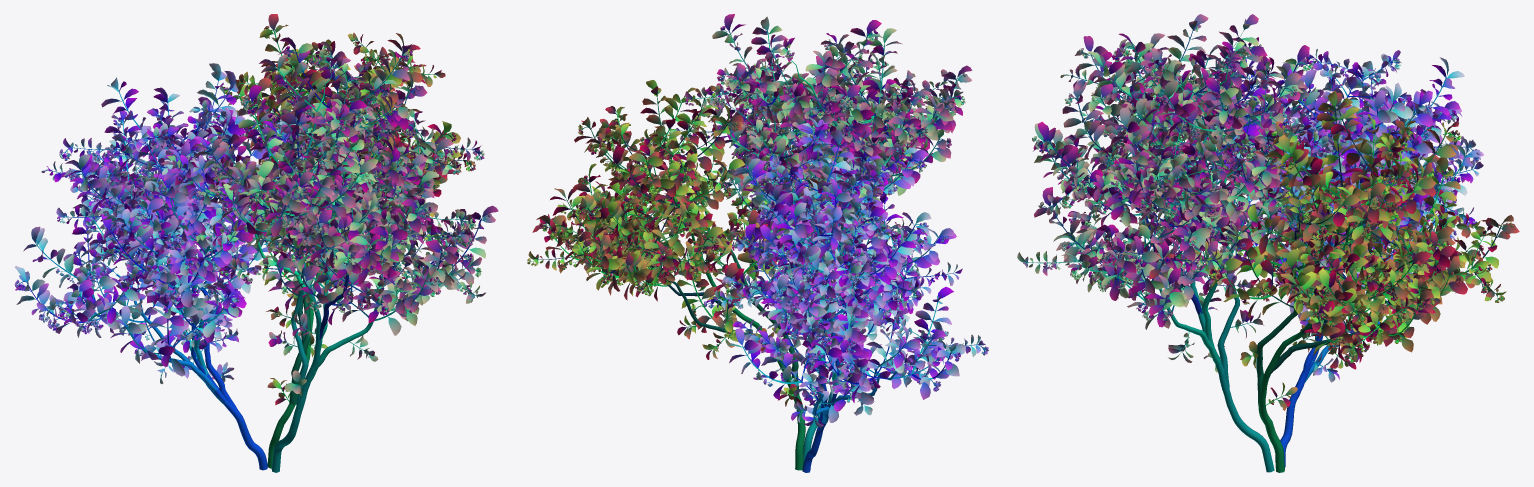
Rendered from European_Spindle_wk1ncbxja_Mid_wk1ncbxja_VarC_LOD0.fbx.
3 renders of one model, left to right at view 1: azimuth 30°, elevation 25°; view 2: azimuth 150°, elevation 25°; view 3: azimuth 270°, elevation 25°, orthographic. The views are drawn at different scales.
Parts seen in each view (by area): view 1: _bxjq_VarC_LOD1; view 2: _bxjq_VarC_LOD1; view 3: _bxjq_VarC_LOD1.
Boxes of the visible parts, box(x1,y1,x2,y2) form: _bxjq_VarC_LOD1: box(14, 14, 498, 472); _bxjq_VarC_LOD1: box(527, 14, 988, 472); _bxjq_VarC_LOD1: box(1017, 14, 1519, 472).
Bounding box in the file's own units: 320 × 287 × 292.
